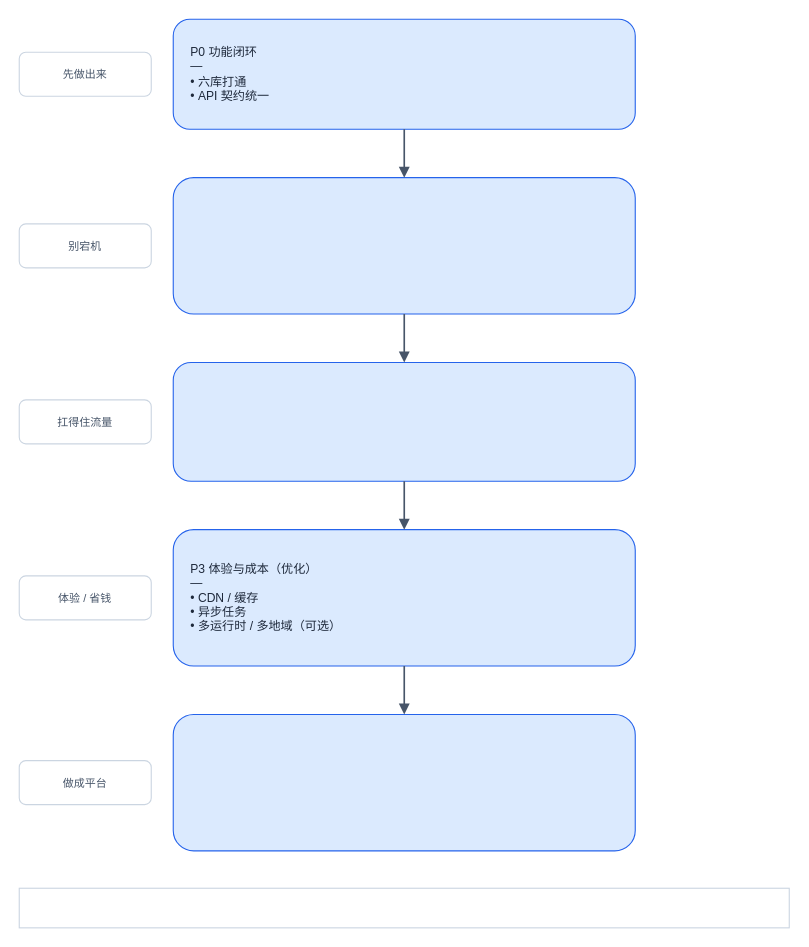
This 809x947 diagram has some shape labels left out. The box of each missing label's shape, as (x1, y1, x2, y2) in pixels:
P1 高可用（稳基） — • MySQL / Redis 主从 • 多实例 + 健康检查 • 基础监控与日志: (172, 177, 635, 314)
P2 高并发（扛量） — • 读写分离 • 公开页缓存与限流 / 熔断: (172, 361, 635, 481)
P4 平台化（演进） — • 多租户与配额 • 开放 API / Webhook • 审计与版本 / 回滚: (172, 713, 635, 851)
图例：每阶段目标一句话（左侧灰底），右侧为该阶段关键工作项。阶段按顺序推进，前一阶段是后一阶段的前提。: (18, 887, 789, 928)
